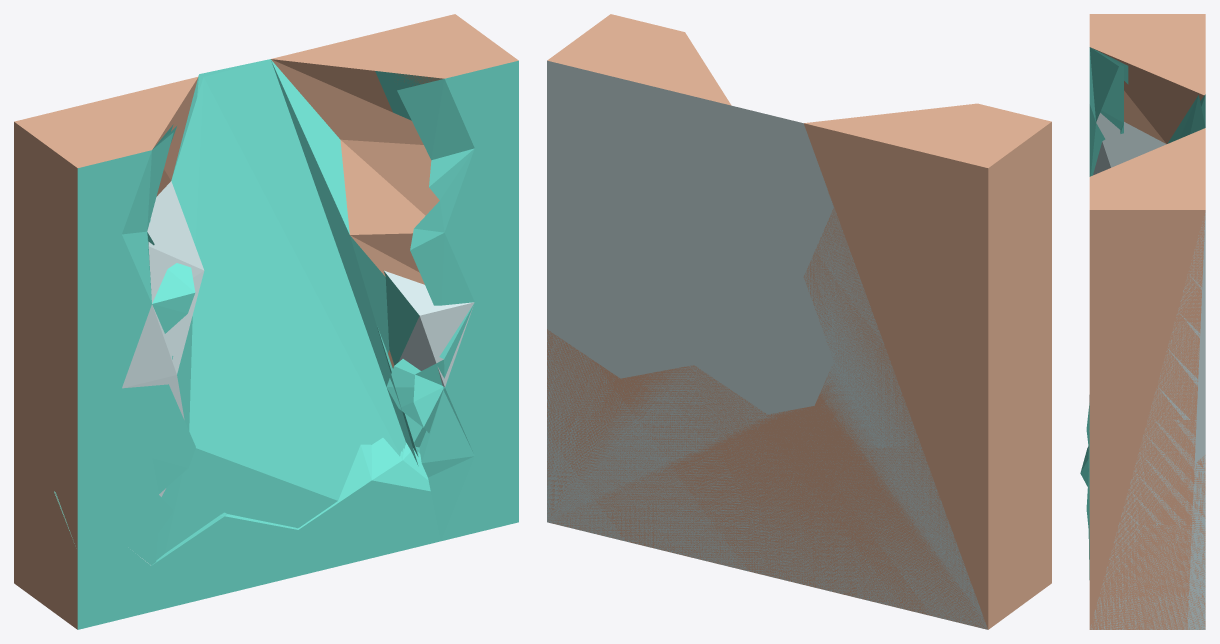
Rendered from missing_quarter_cliffs.glb.
3 views of the same model, side by side, from view 1: azimuth 30°, elevation 25°; view 2: azimuth 150°, elevation 25°; view 3: azimuth 270°, elevation 25° (orthographic). The views are drawn at different scales.
Parts seen in each view (by area): view 1: cliff_blockSlopeHalfWalls_rock, cliff_blockSlopeHalfWalls_stone, cliff_half_rock, cliff_halfCornerInner_rock, cliff_halfCornerInner_stone, cliff_halfCorner_rock; view 2: cliff_blockSlopeHalfWalls_stone, cliff_blockSlopeHalfWalls_rock, cliff_halfCornerInner_rock, cliff_half_rock, cliff_halfCorner_rock; view 3: cliff_blockSlopeHalfWalls_rock, cliff_blockSlopeHalfWalls_stone, cliff_halfCornerInner_rock, cliff_half_rock.
Boxes of the visible parts, x1,y1,x2,y2 form: cliff_blockSlopeHalfWalls_rock: (14, 14, 518, 629); cliff_blockSlopeHalfWalls_stone: (78, 59, 474, 629); cliff_half_rock: (14, 391, 518, 629); cliff_halfCornerInner_rock: (15, 78, 502, 629); cliff_halfCornerInner_stone: (140, 124, 430, 565); cliff_halfCorner_rock: (55, 492, 151, 628); cliff_blockSlopeHalfWalls_stone: (547, 60, 987, 629); cliff_blockSlopeHalfWalls_rock: (547, 14, 1051, 629); cliff_halfCornerInner_rock: (549, 104, 1050, 628); cliff_half_rock: (547, 329, 1051, 628); cliff_halfCorner_rock: (805, 437, 988, 629); cliff_blockSlopeHalfWalls_rock: (1080, 14, 1205, 629); cliff_blockSlopeHalfWalls_stone: (1088, 95, 1205, 629); cliff_halfCornerInner_rock: (1089, 14, 1205, 133); cliff_half_rock: (1089, 455, 1205, 629).
Bounding box in the file's own units: 1 × 1.01 × 0.2702.
